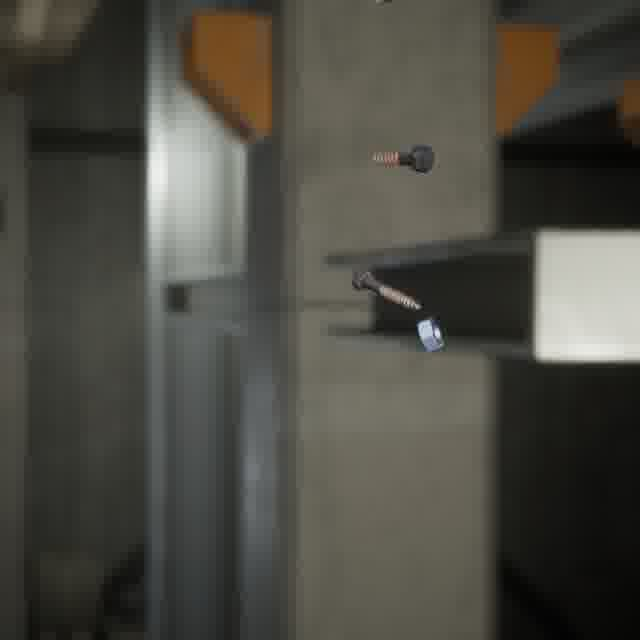bolt: (347, 265, 425, 313), (368, 140, 438, 177)
nut: (413, 312, 447, 356)
